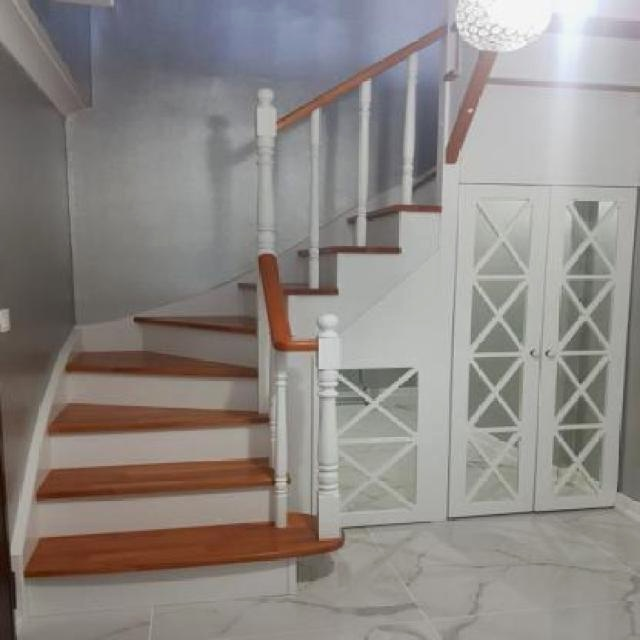stair: (24, 195, 398, 588)
